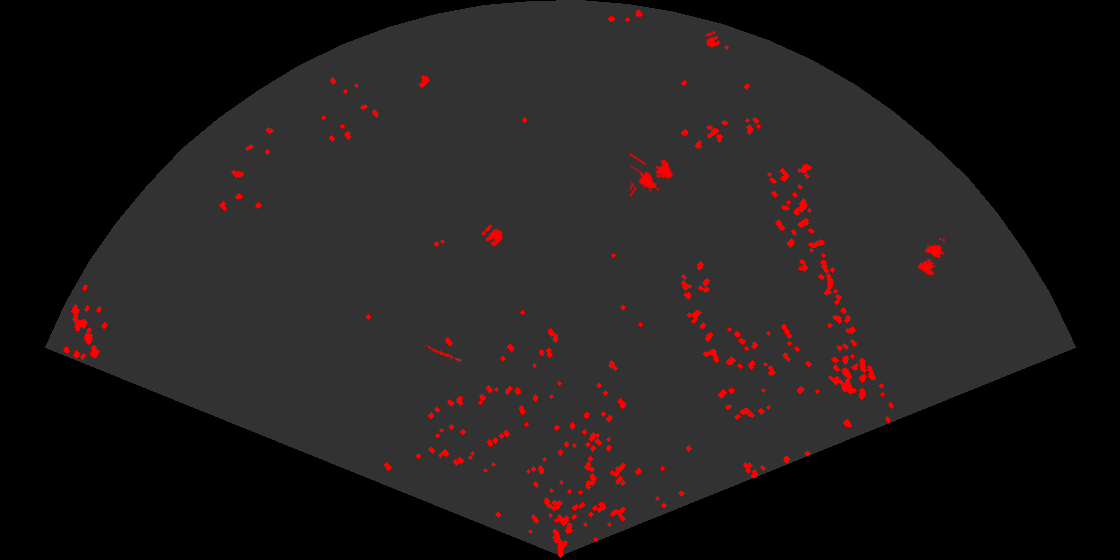ball: (480, 223, 505, 248), (703, 29, 722, 50)
cage: (630, 151, 675, 200), (916, 238, 945, 277)
chain: (423, 343, 462, 364)
